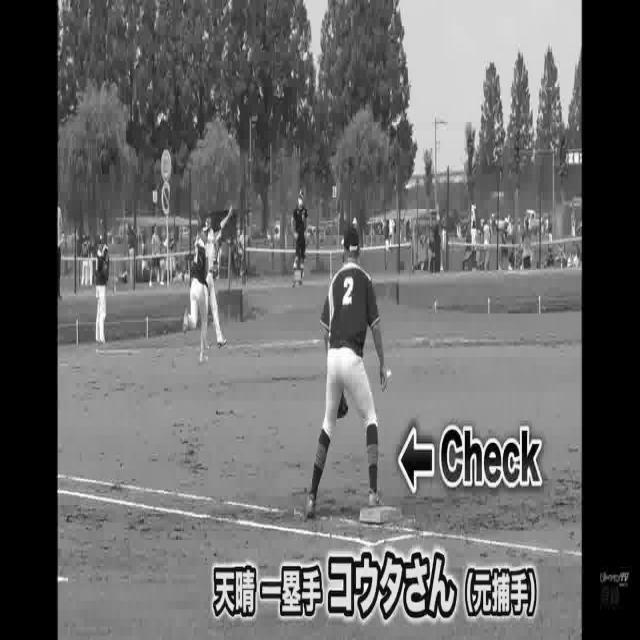base: (358, 502, 401, 526)
shoe: (364, 488, 385, 508), (306, 493, 318, 525), (181, 305, 190, 336), (200, 347, 209, 367)
